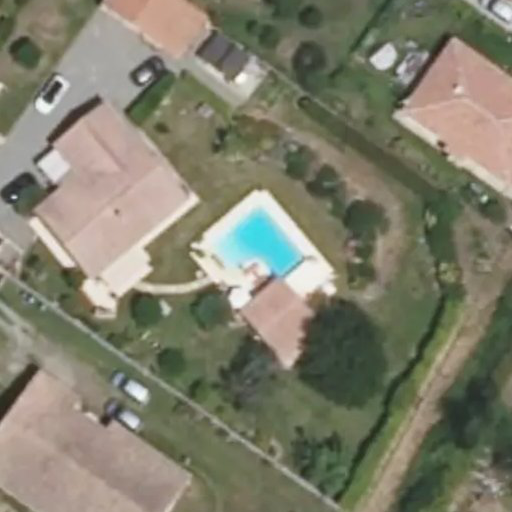pool: (207, 242, 304, 259)
